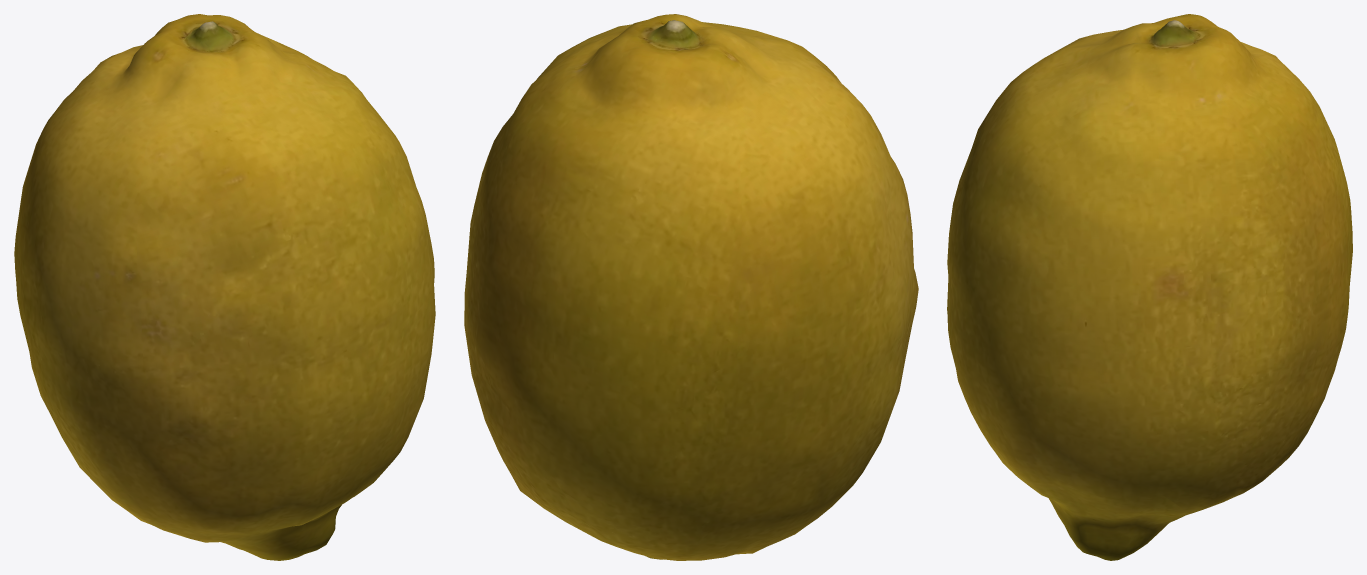
Rendered from lemon.glb.
The picture shows the model from 3 angles, left to right: view 1: azimuth 30°, elevation 25°; view 2: azimuth 150°, elevation 25°; view 3: azimuth 270°, elevation 25°; orthographic projection. The views are drawn at different scales.
Visible parts, largest first — view 1: lemon; view 2: lemon; view 3: lemon.
Boxes of the visible parts, x1,y1,x2,y2 form: lemon: (14, 14, 435, 560); lemon: (464, 14, 918, 560); lemon: (947, 14, 1352, 560).
Bounding box in the file's own units: 0.0687 × 0.0954 × 0.0683.
1 material, 1 textured.
